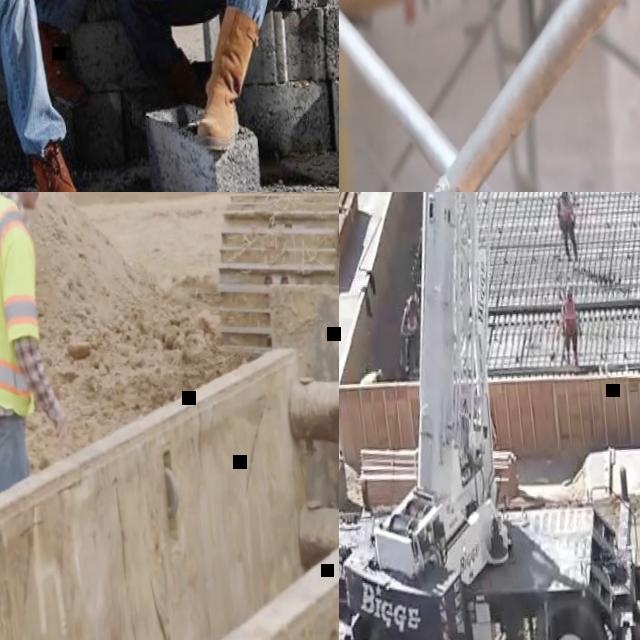Hardhat: (407, 294, 415, 305), (565, 283, 573, 293)
Person: (97, 0, 307, 159), (0, 0, 138, 192), (0, 192, 76, 490), (397, 294, 425, 374), (558, 282, 582, 364), (554, 192, 578, 260), (14, 192, 40, 212)
Safety Vest: (0, 192, 51, 422), (561, 299, 577, 323), (404, 306, 418, 330), (559, 196, 573, 219)
machinery: (339, 192, 640, 640), (197, 192, 339, 364)
